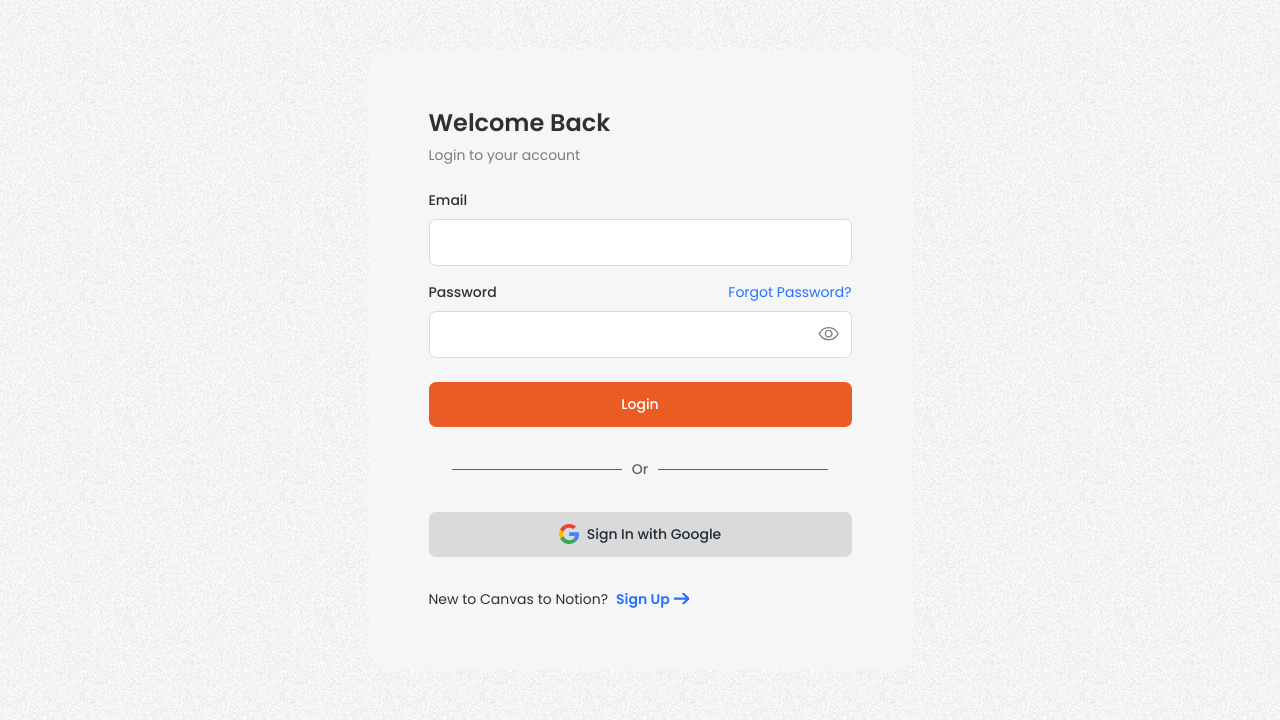
Test: Login Component › handles failed login attempts with Axios error response
# Fill out form
Type "test@example.com" into the field labelled "Email". click: coordinates (640, 242)
box: [428,219,852,266]
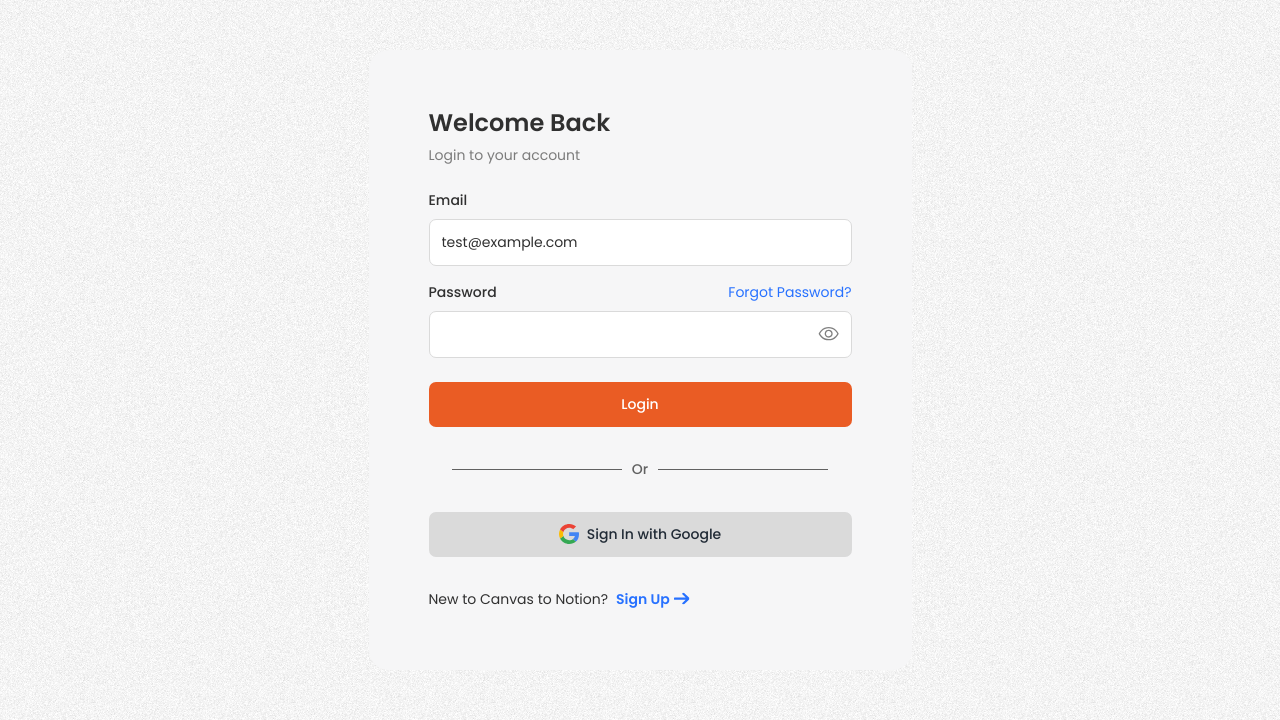
Type "wrongpassword" into the password field named "password". click: coordinates (640, 334)
box: [428,311,852,358]
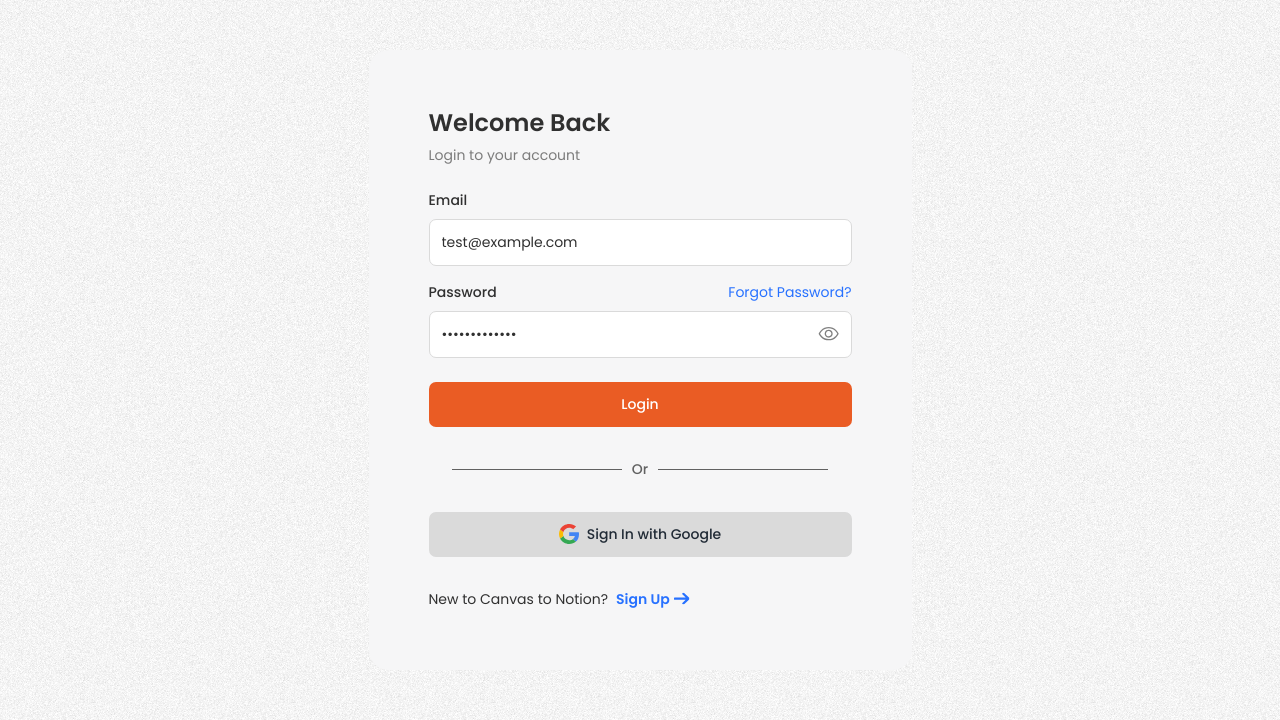
# Submit the form
Click the submit button. click: coordinates (640, 404)
box: [428,382,852,427]
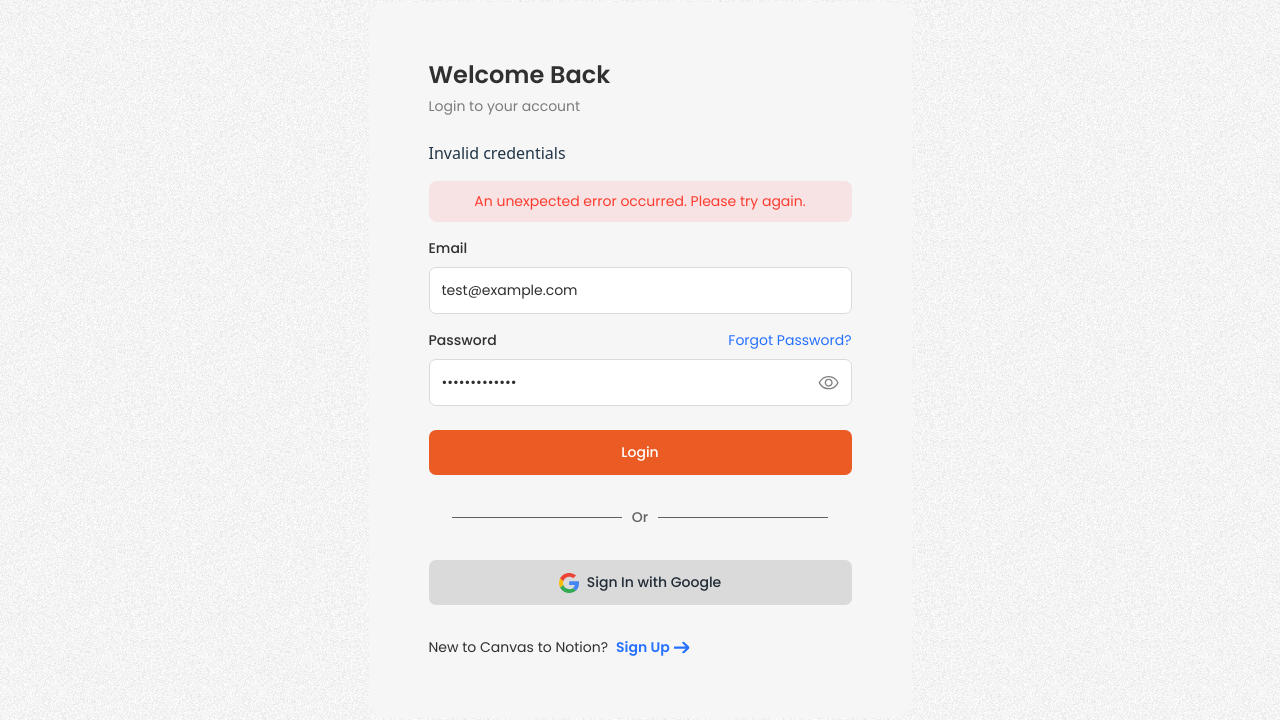
Expected: the submit button is enabled, [428,430,852,475]
Now the text "Invalid credentials" is shown, box [428,142,566,164]
